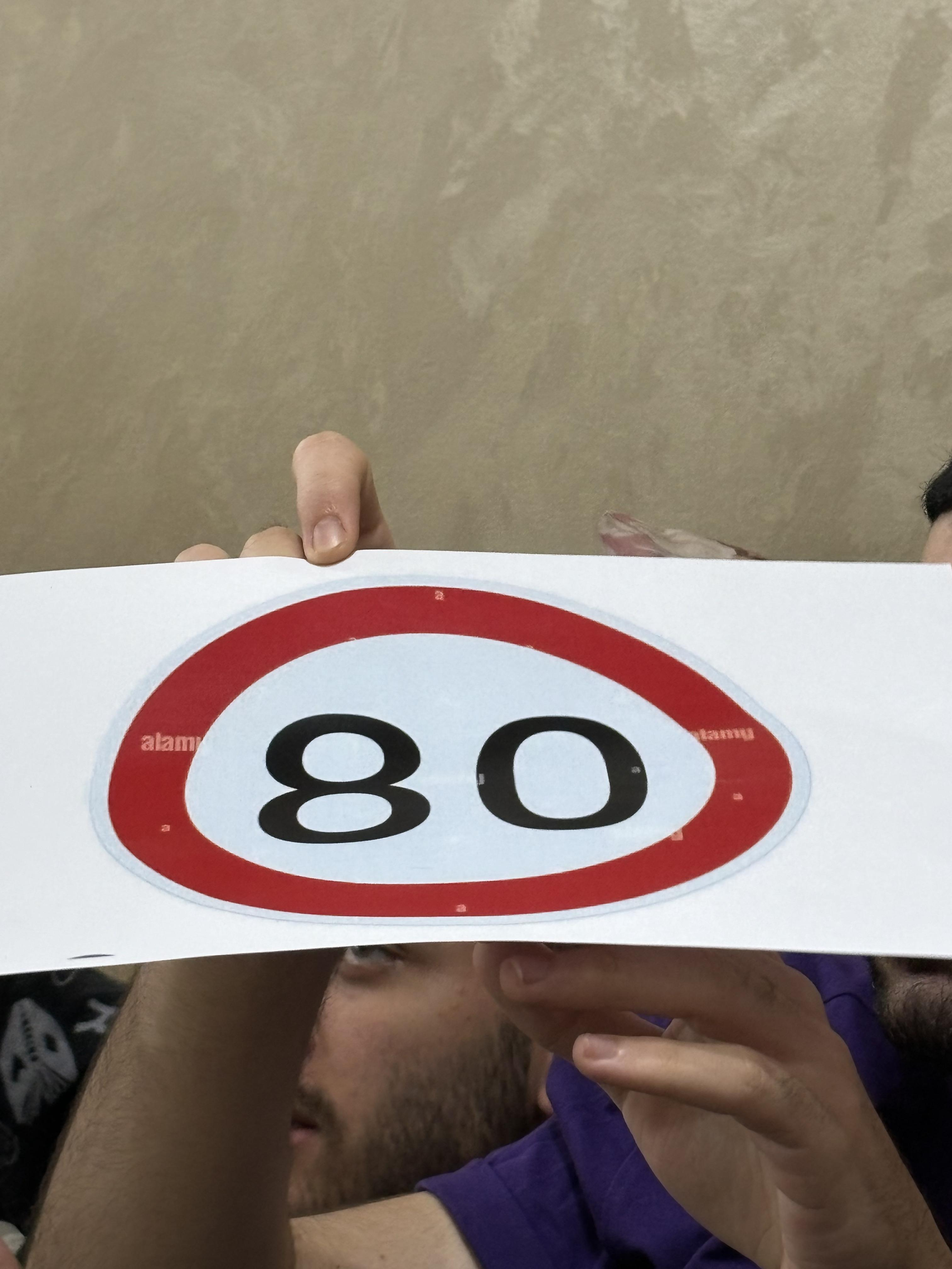80-Speed: (95, 558, 820, 938)
